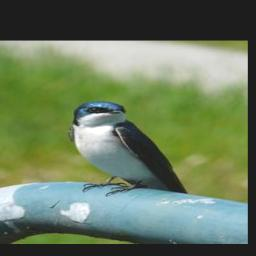Swallow: (65, 99, 189, 197)
